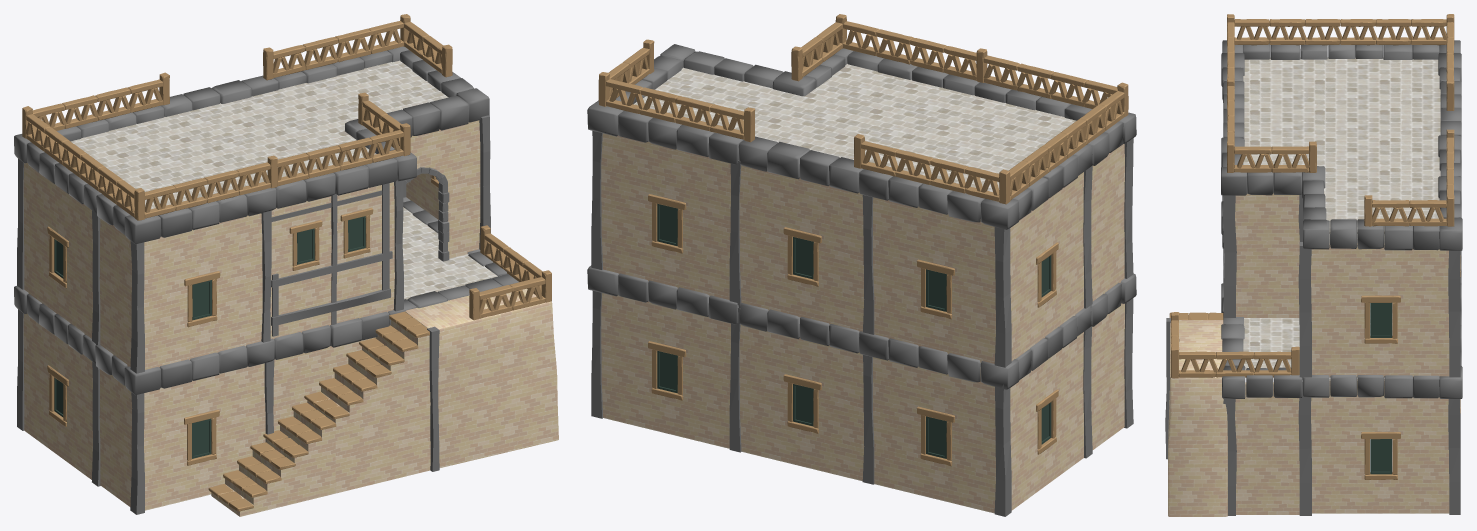
Rendered from SM_house_desert_03.fbx.
3 renders of one model, left to right at view 1: azimuth 30°, elevation 25°; view 2: azimuth 150°, elevation 25°; view 3: azimuth 270°, elevation 25°, orthographic. The views are drawn at different scales.
Parts seen in each view (by area): view 1: Object33152; view 2: Object33152; view 3: Object33152.
Part boxes in pixels (x1,y1,x2,y2): Object33152: (14,14,558,516); Object33152: (587,14,1136,516); Object33152: (1165,14,1462,516).
Size of the model in its own units: 521 by 404 by 345.
